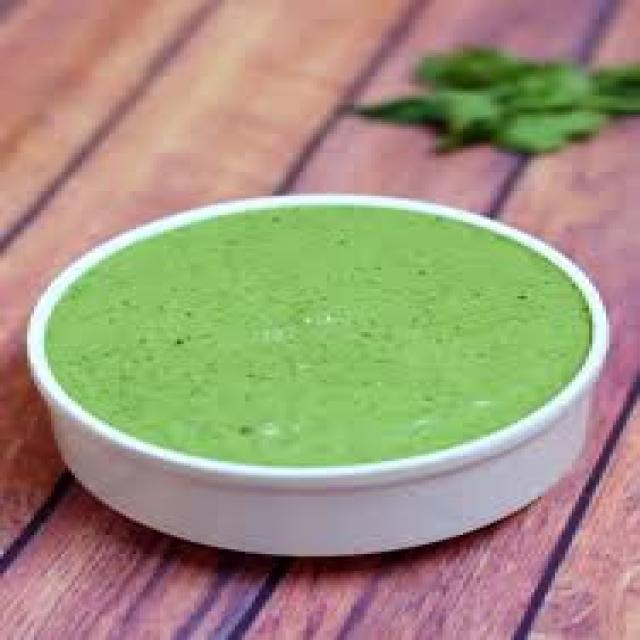GREEN CHUTNEY: (59, 212, 594, 468)
